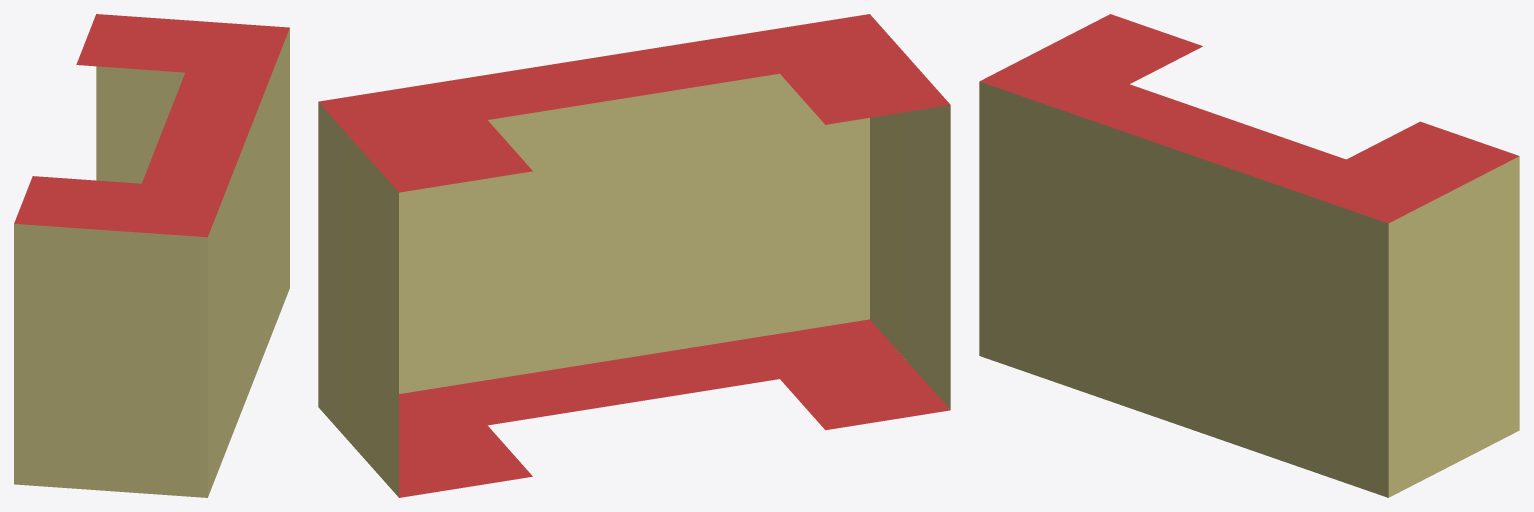
The picture shows the model from 3 angles, left to right: view 1: azimuth 30°, elevation 25°; view 2: azimuth 150°, elevation 25°; view 3: azimuth 270°, elevation 25°; orthographic projection. The views are drawn at different scales.
Visible parts, largest first — view 1: group_4, group_3; view 2: group_4, group_3, group_5; view 3: group_4, group_3.
Boxes of the visible parts, bbox=[...] form: group_4: bbox=[14, 28, 289, 497]; group_3: bbox=[14, 14, 289, 237]; group_4: bbox=[318, 73, 950, 497]; group_3: bbox=[318, 14, 950, 192]; group_5: bbox=[399, 319, 950, 497]; group_4: bbox=[979, 81, 1519, 497]; group_3: bbox=[979, 14, 1519, 223].
Size of the model in its own units: 10.08 by 10.98 by 6.15.
